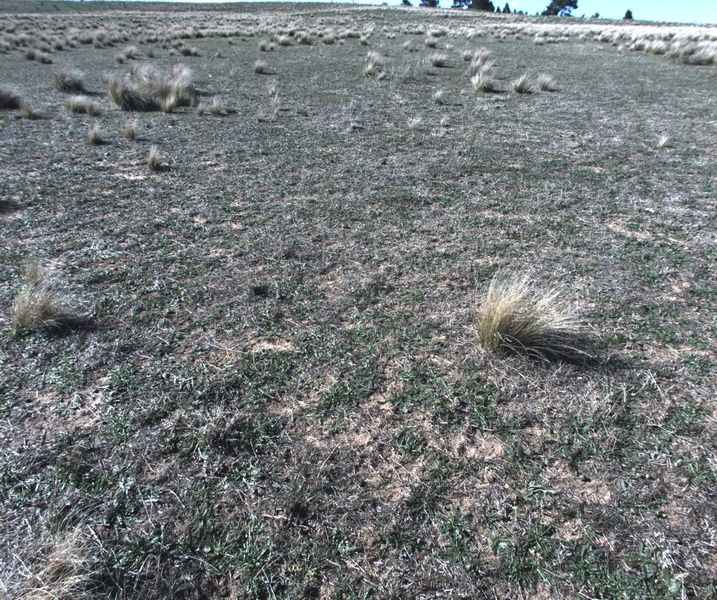st: (1, 509, 106, 600), (464, 276, 564, 363), (6, 270, 65, 343), (107, 73, 178, 112), (59, 95, 95, 114), (50, 70, 85, 88), (144, 142, 163, 175), (471, 64, 491, 91), (363, 49, 381, 70), (17, 48, 44, 61), (195, 101, 210, 122), (536, 72, 552, 91), (20, 102, 36, 121), (422, 36, 439, 53), (119, 123, 136, 140), (250, 57, 266, 75), (211, 95, 225, 115), (114, 48, 128, 68), (87, 125, 100, 146), (513, 76, 529, 93), (256, 39, 272, 56), (466, 50, 484, 65), (121, 46, 136, 62), (1, 85, 14, 103), (530, 35, 544, 49), (431, 59, 446, 67)
